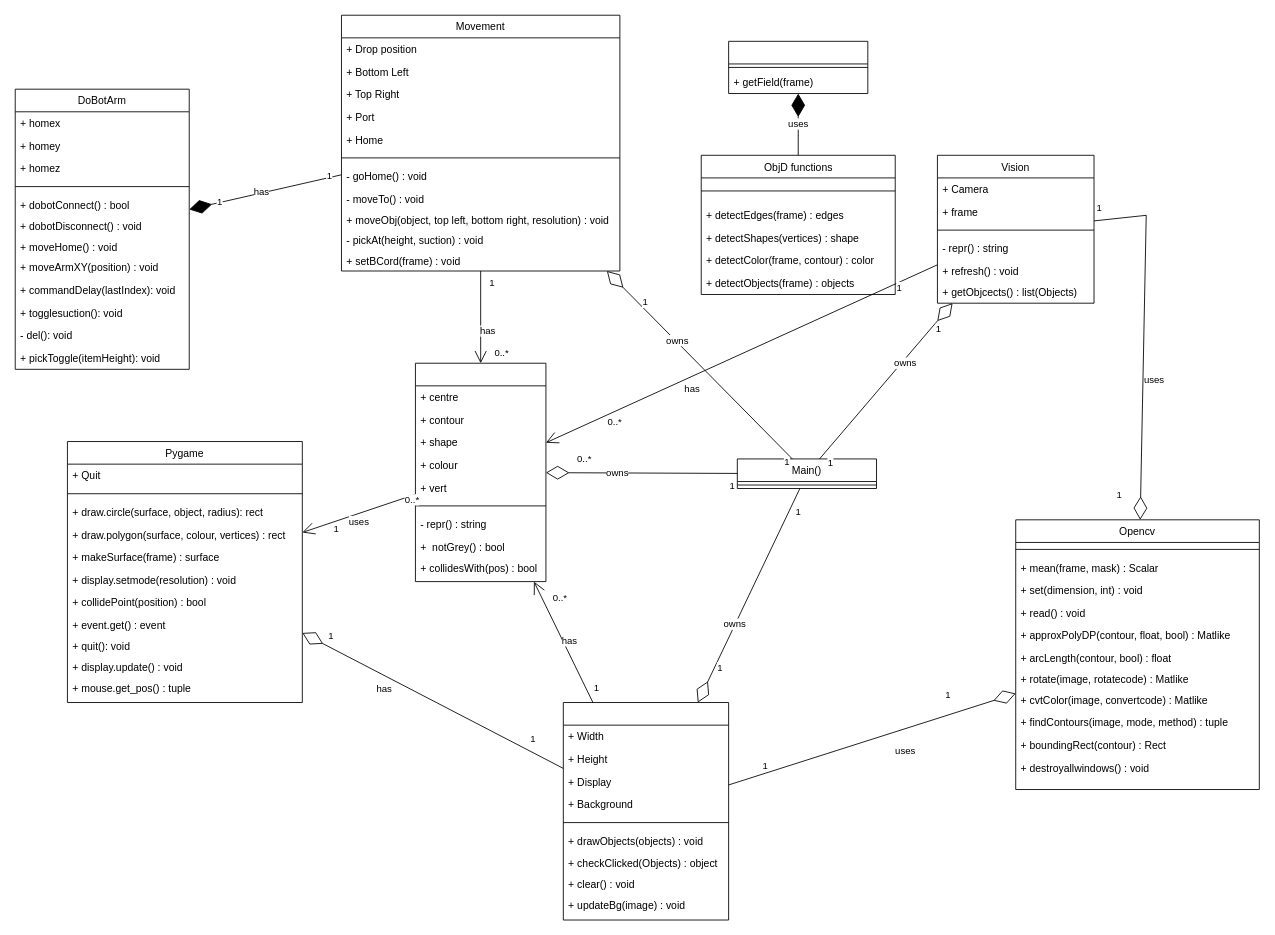
Image size: 1275x935. Some labels were removed from this diagram. Here are the shapes that lost their labels. From the top down, the box of each, then its label:
(728, 40, 868, 94): Cdet functions
(415, 362, 546, 582): Object
(562, 702, 729, 920): UI
